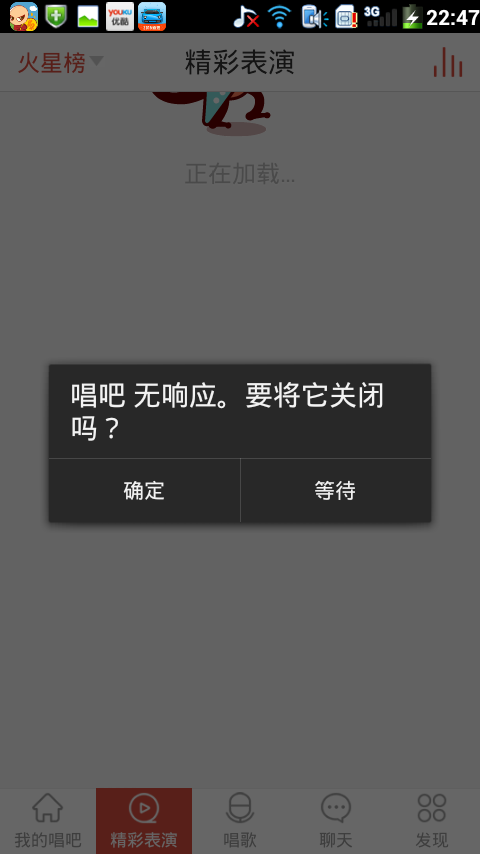alert: (40, 355, 446, 530)
nav: (8, 788, 467, 854)
